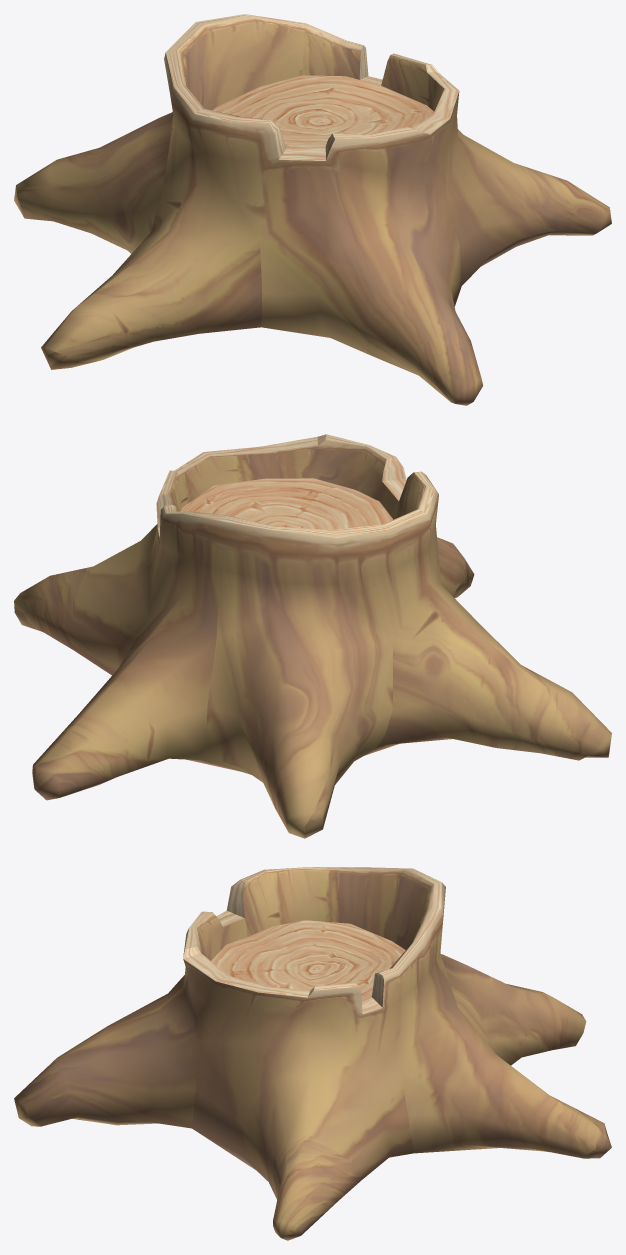
The model's file is SM_ENV_treetrunk_ancient_03.fbx.
3 views of the same model, one above another, from view 1: azimuth 30°, elevation 25°; view 2: azimuth 150°, elevation 25°; view 3: azimuth 270°, elevation 25° (orthographic). The views are drawn at different scales.
Visible parts, largest first — view 1: SM_ENV_treetrunk_ancient_03_LOD0; view 2: SM_ENV_treetrunk_ancient_03_LOD0; view 3: SM_ENV_treetrunk_ancient_03_LOD0.
Boxes of the visible parts, x1,y1,x2,y2 form: SM_ENV_treetrunk_ancient_03_LOD0: [14, 14, 611, 405]; SM_ENV_treetrunk_ancient_03_LOD0: [14, 434, 611, 838]; SM_ENV_treetrunk_ancient_03_LOD0: [14, 867, 611, 1240].
Size of what is drawn, in the model's own units: 171 by 68.06 by 167.
